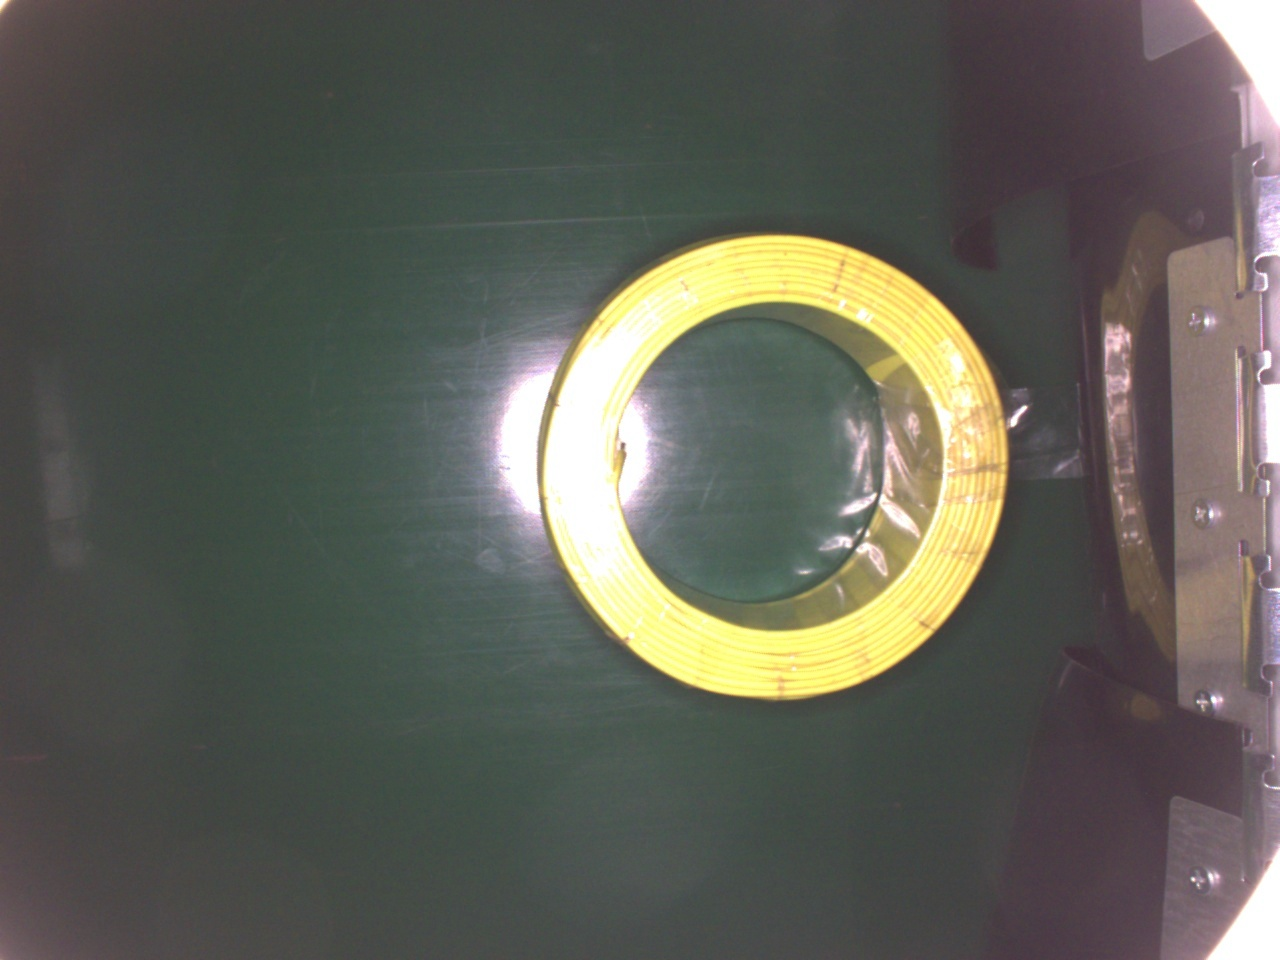yellow: (531, 229, 1009, 703)
